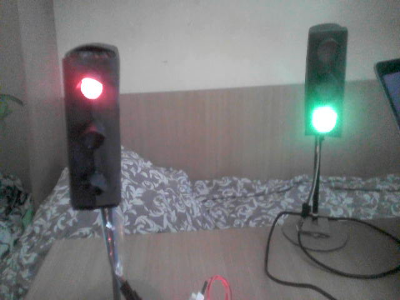trafficlight_green: (305, 28, 342, 134)
trafficlight_red: (65, 53, 121, 203)
